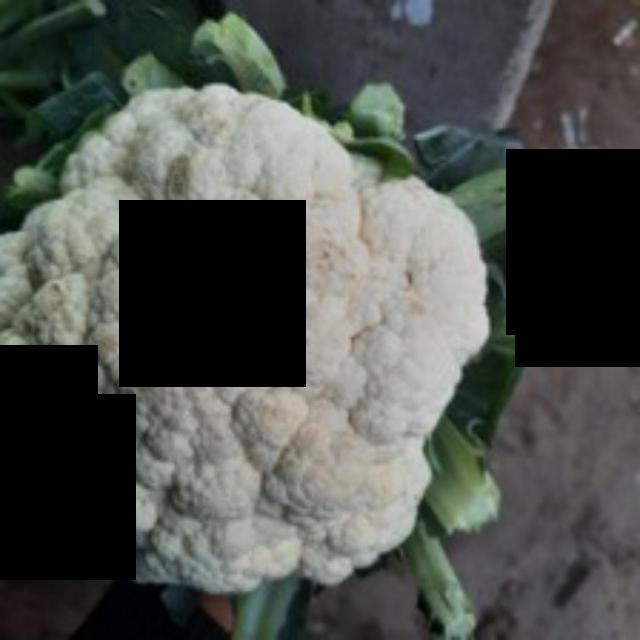cauliflower: (1, 73, 505, 601)
